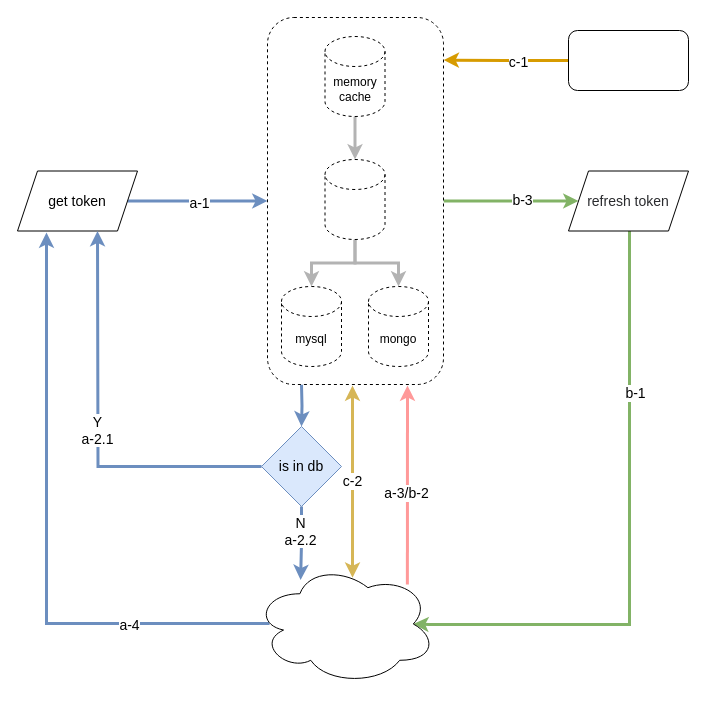
The diagram is 706 pixels wide and 702 high, and some of its shapes have lost their labels. Each missing label, with the box of its shape:
redis: (324, 158, 385, 240)
token service 微信、支付宝......: (254, 562, 436, 684)
定时任务: (568, 30, 688, 90)
